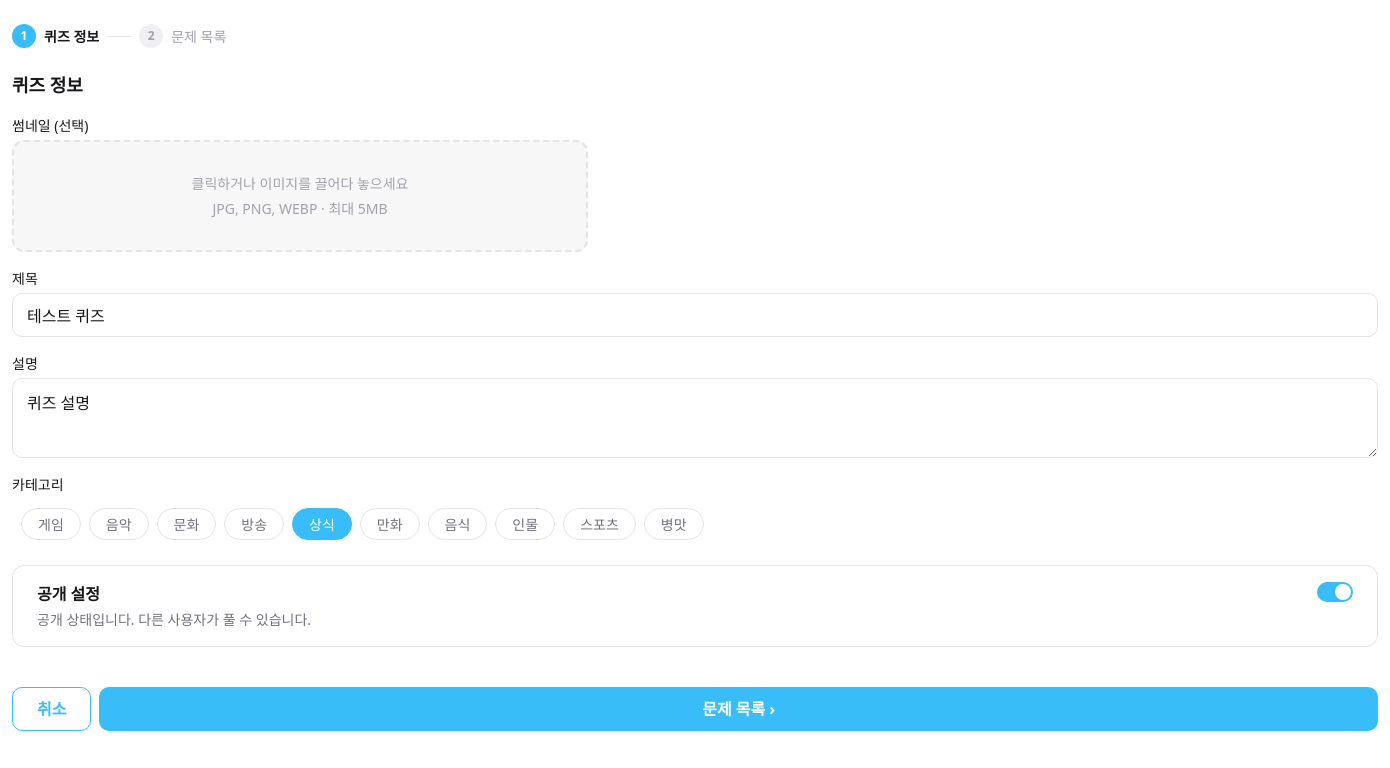
Test: QuizEditPage › isSubmitting / submit 에러 › isSubmitting=true → 라벨 "저장 중..." + disabled
The width and height of the screenshot is (1390, 768).
Click the button "문제 목록 ›": [739, 709] box [100, 687, 1378, 731]
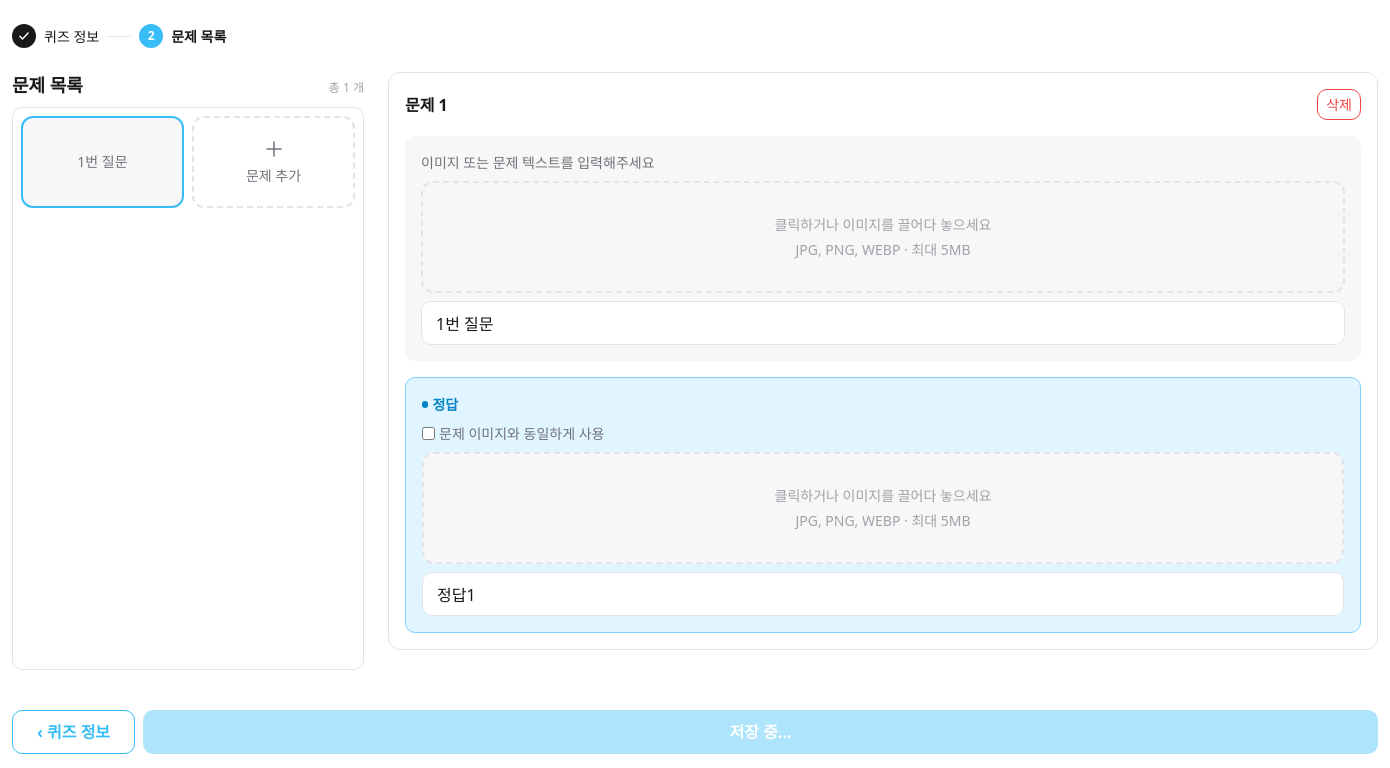
Check: the button "저장 중..." is disabled, box [143, 710, 1378, 754]
